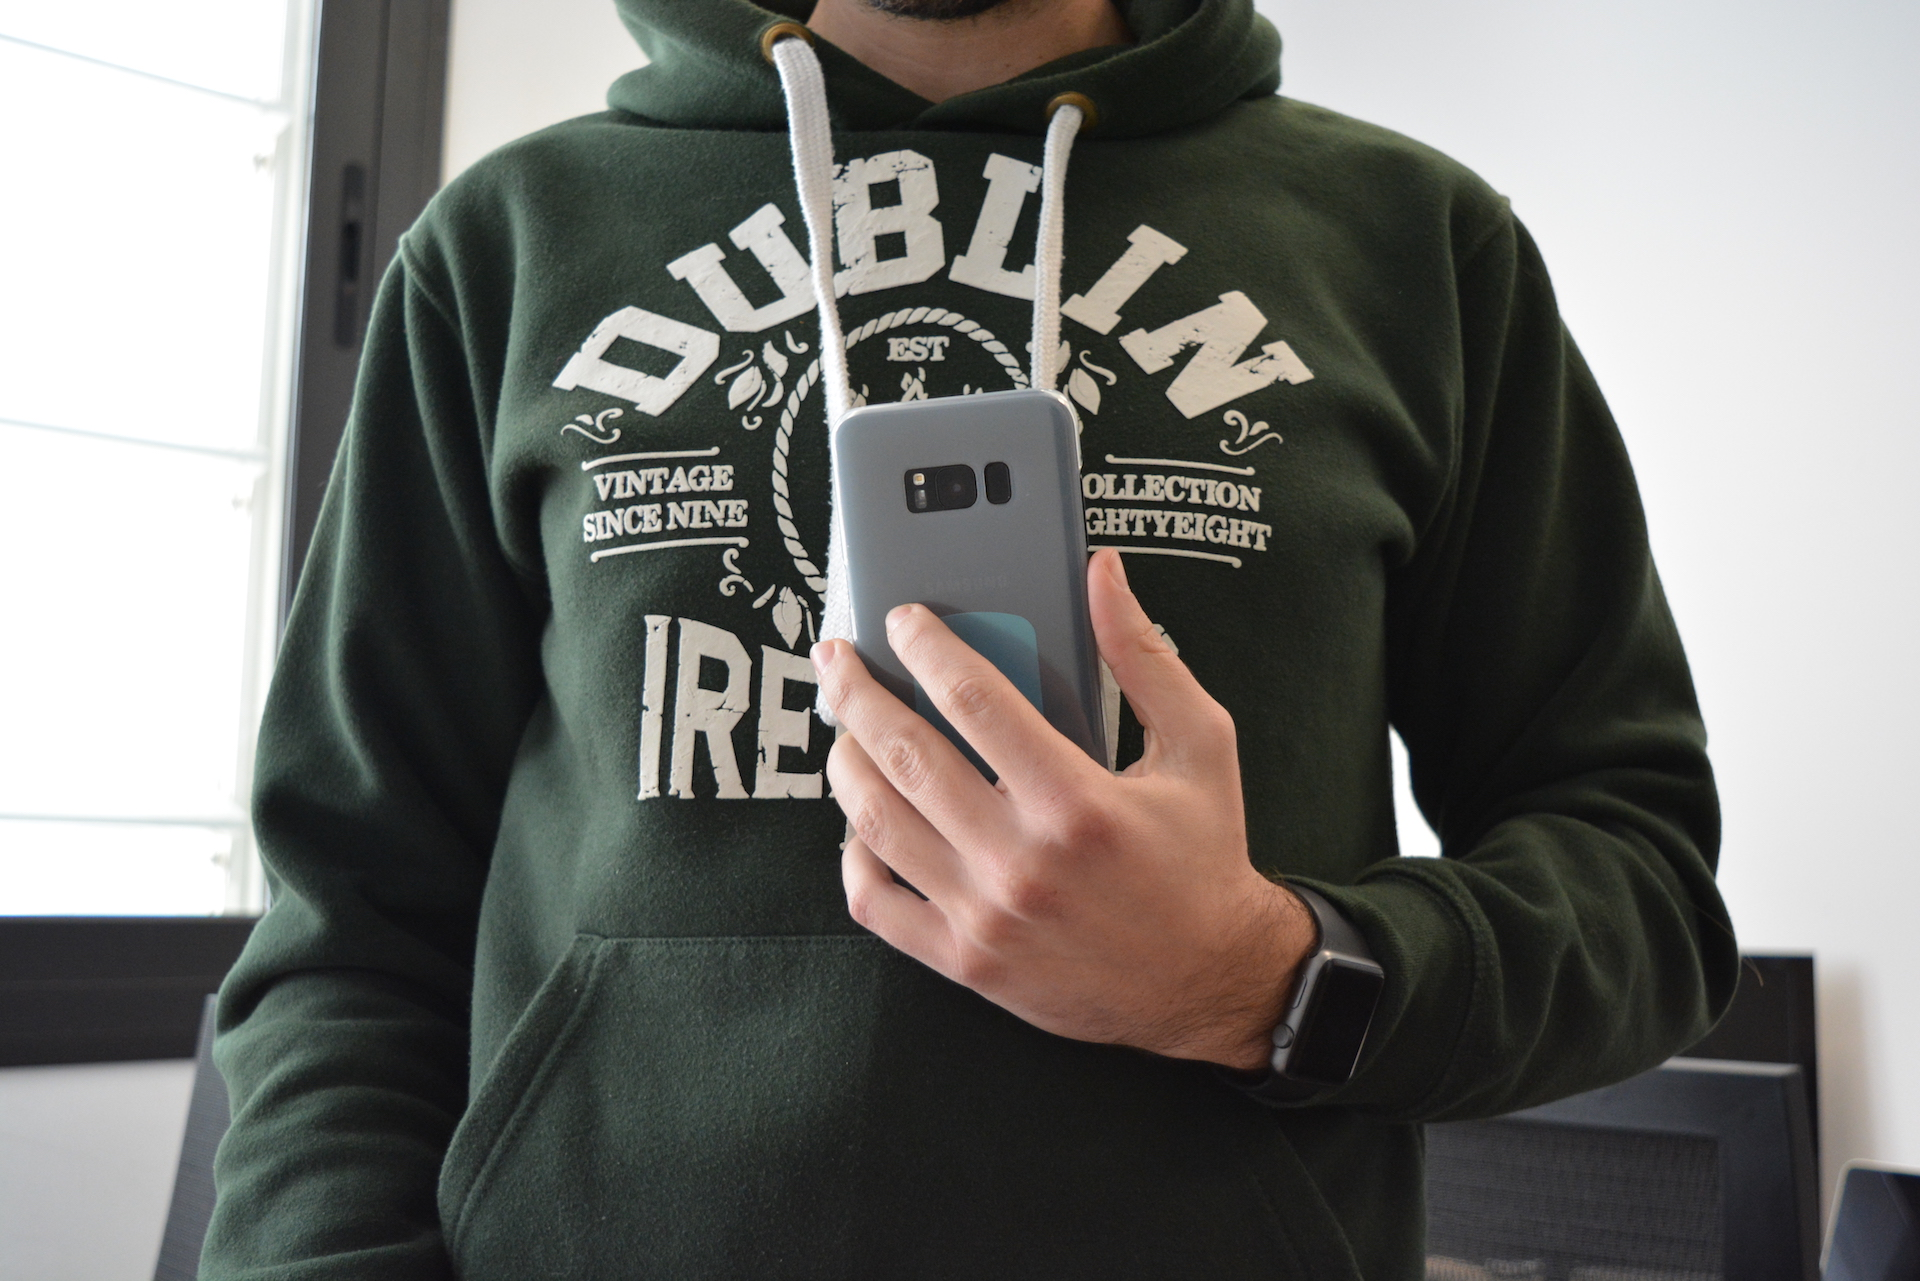smartphone: (828, 386, 1117, 793)
